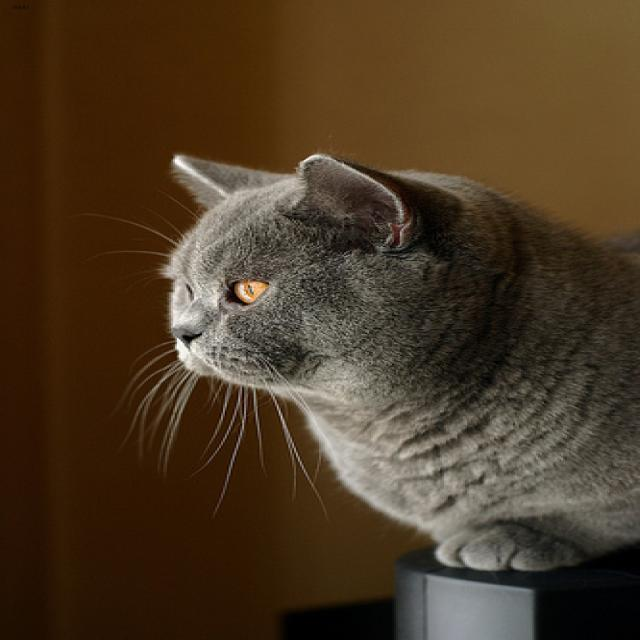British_Shorthair: (158, 151, 459, 384)
